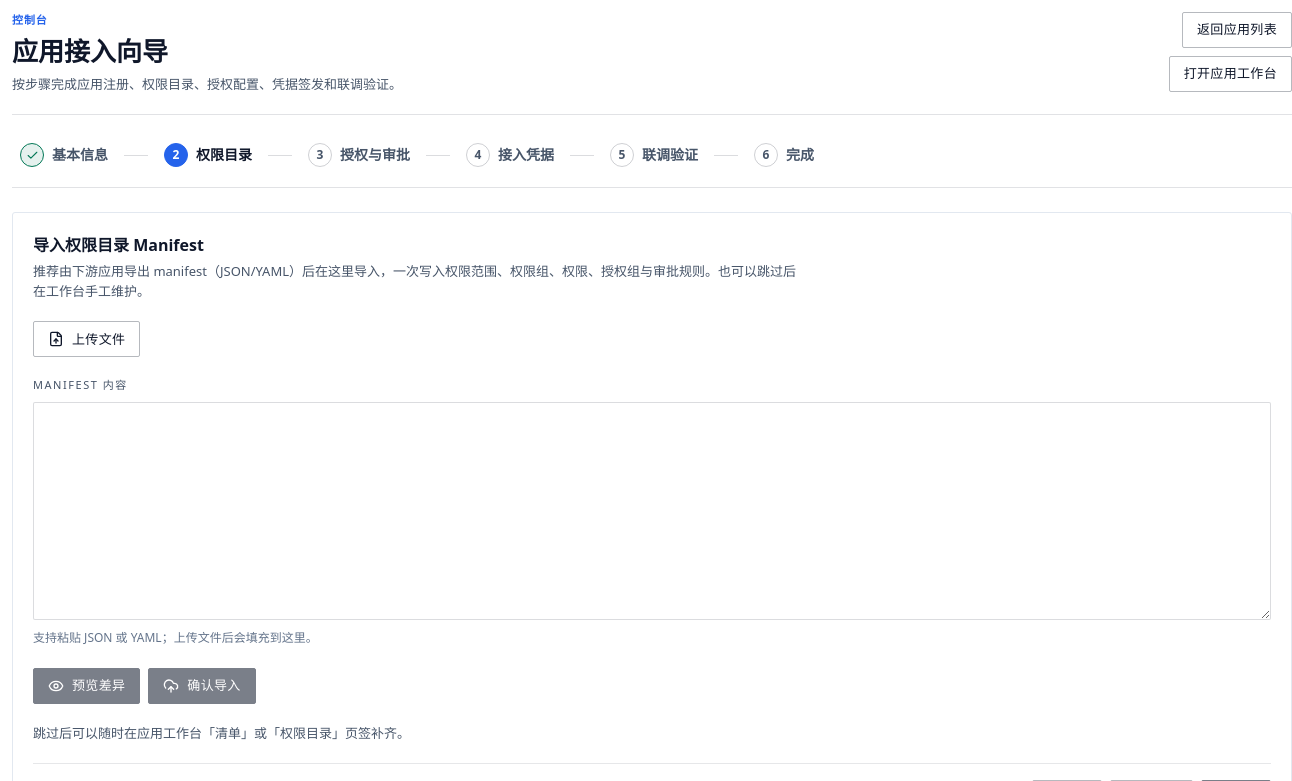
Scenario: AppOnboardingWizard › manifest 预览在途时编辑不会让旧响应覆盖新文本
Click the text box labelled "Manifest 内容". click: (652, 511)
box: [33,402,1271,620]
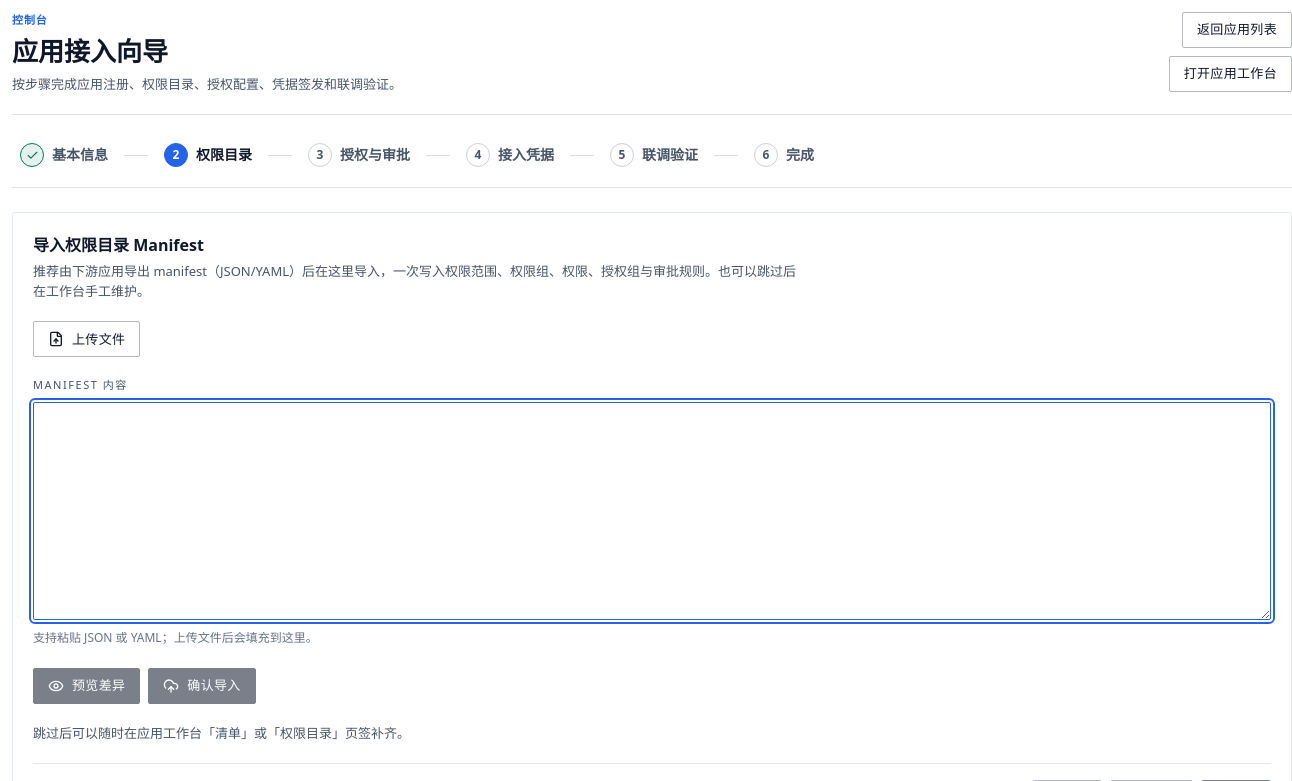
Type keys "{\"version\":1}"
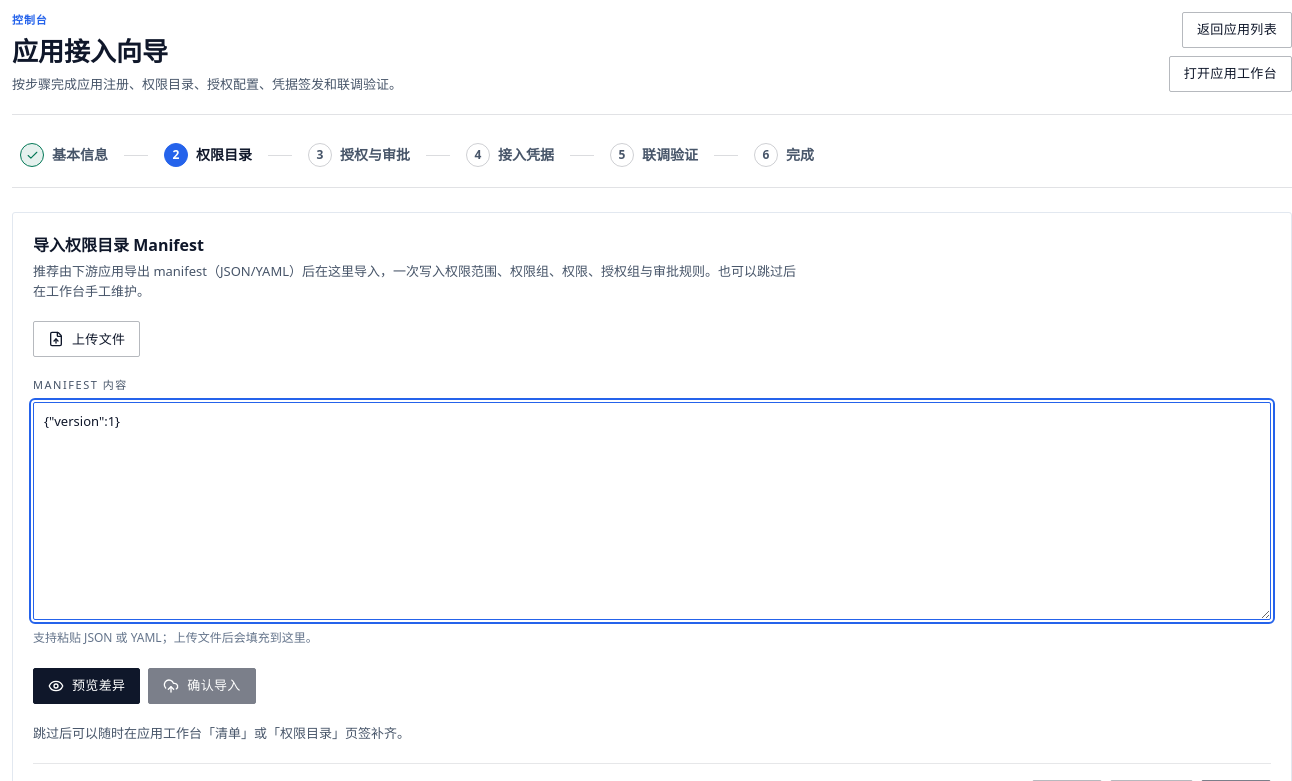
Click the button "预览差异". click: (87, 686)
box: [33,668,140,704]
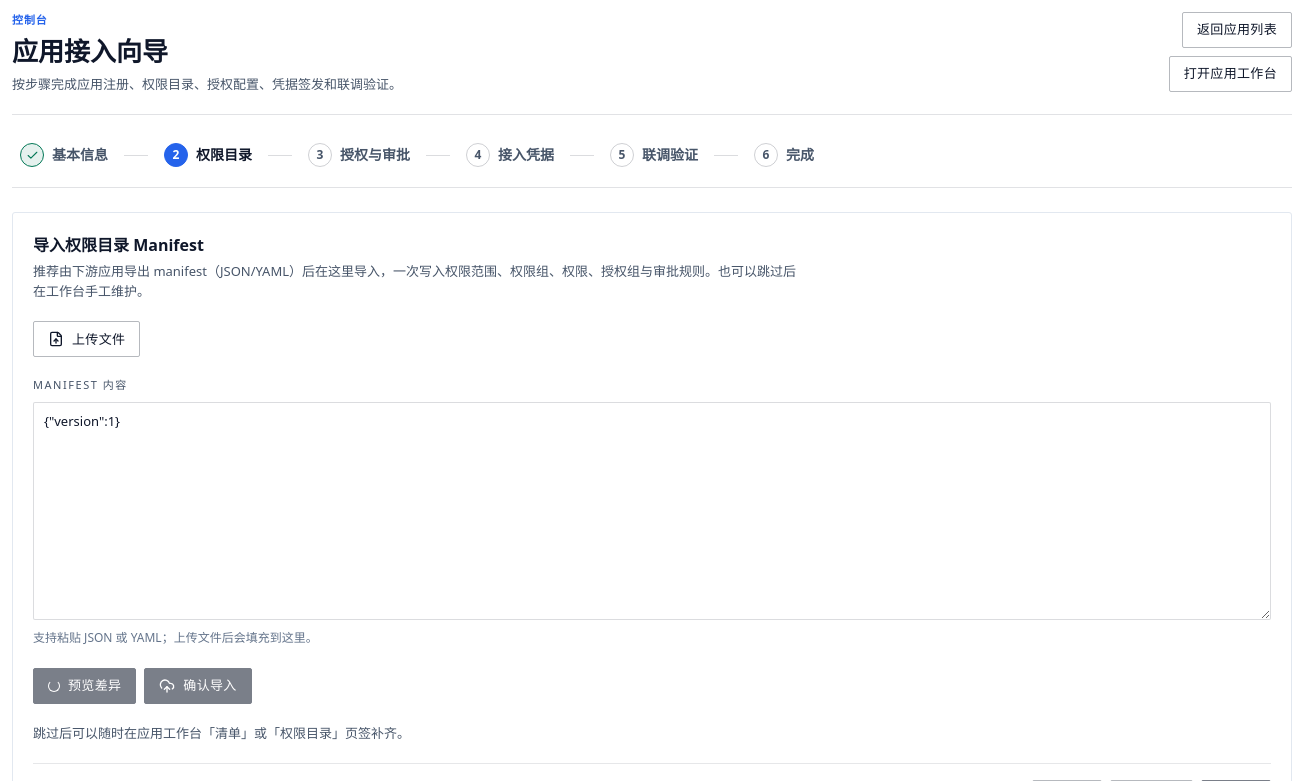
Clear the text box labelled "Manifest 内容". click: (652, 511)
box: [33,402,1271,620]
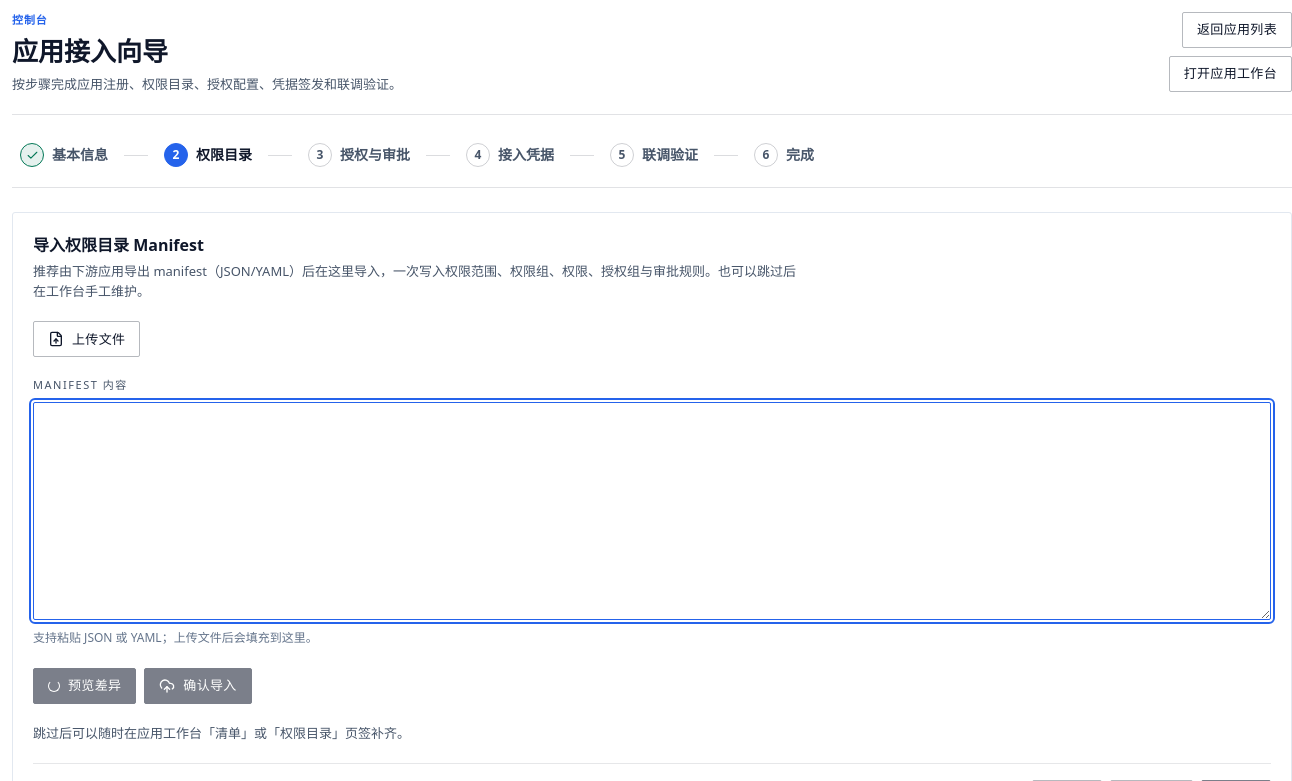
Type keys "{\"version\":2}"
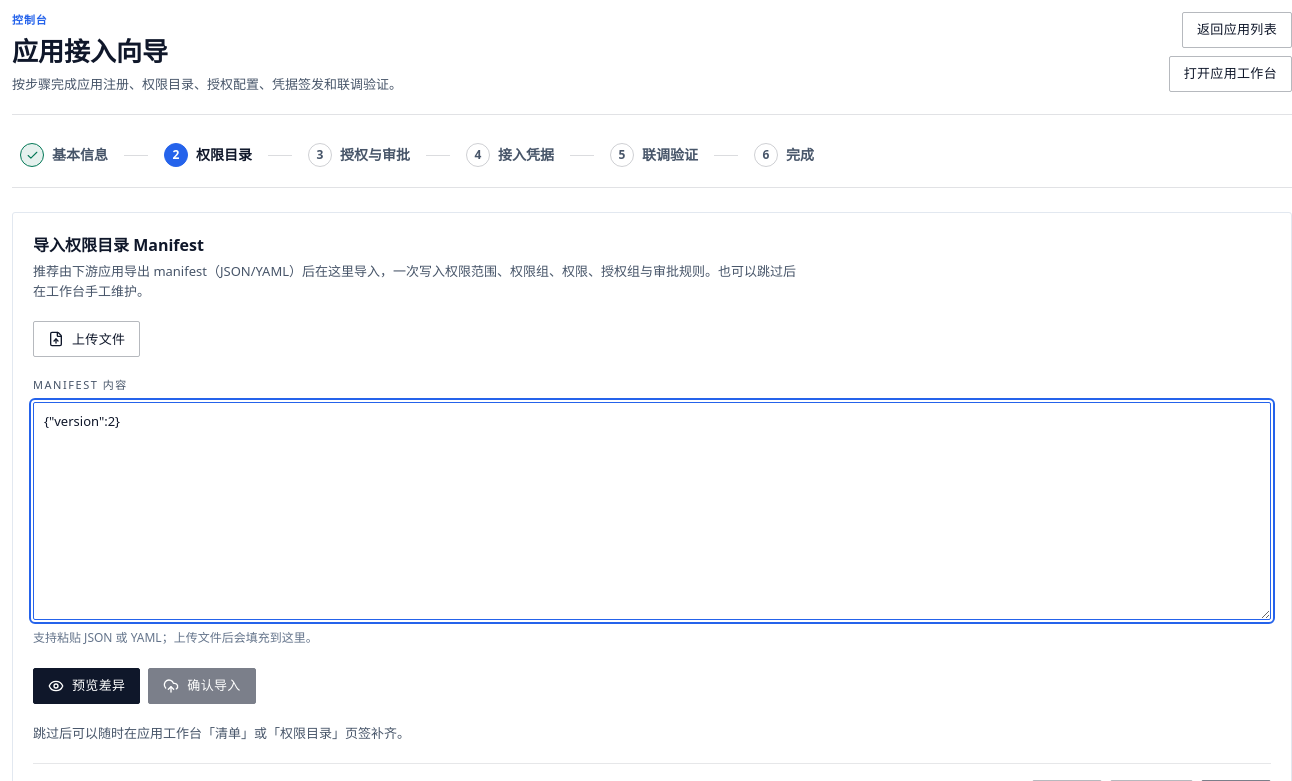
Expected: the button "确认导入" is disabled, [148,668,256,704]
Expected: the button "预览差异" is enabled, [33,668,140,704]
